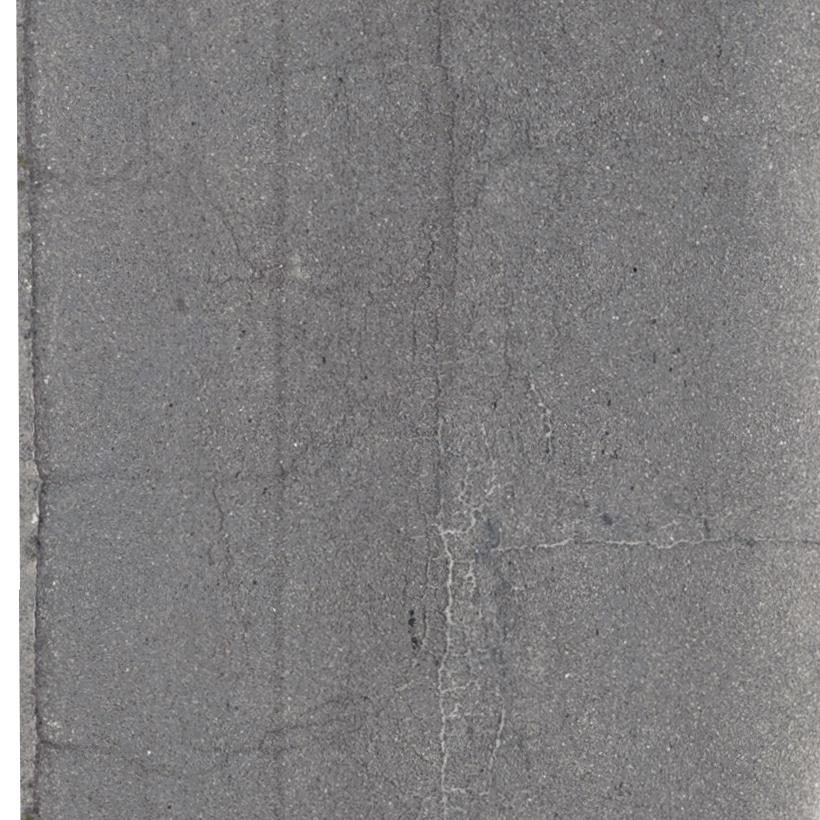GRIETA: (144, 137, 286, 274), (40, 739, 237, 780), (503, 533, 819, 552), (210, 482, 233, 584), (434, 1, 443, 58)
PIEL DE COCODRILO: (316, 59, 560, 819), (255, 694, 365, 764)
